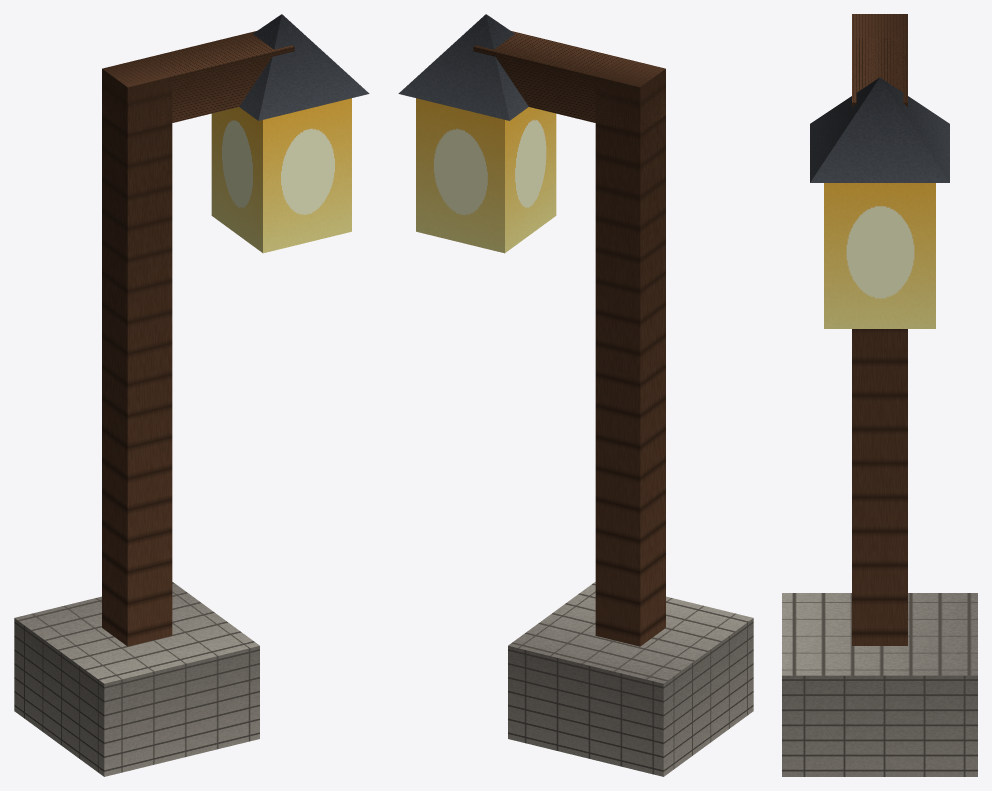
Rendered from lamp_wooden_lantern.gltf.
3 renders of one model, left to right at view 1: azimuth 30°, elevation 25°; view 2: azimuth 150°, elevation 25°; view 3: azimuth 270°, elevation 25°, orthographic. The views are drawn at different scales.
Parts seen in each view (by area): view 1: lamp_wooden_lantern; view 2: lamp_wooden_lantern; view 3: lamp_wooden_lantern.
Boxes of the visible parts, left/top/right/bottom form: lamp_wooden_lantern: left=14, top=14, right=369, bottom=776; lamp_wooden_lantern: left=398, top=14, right=753, bottom=776; lamp_wooden_lantern: left=782, top=14, right=977, bottom=776.
Size of the model in its own units: 1.25 by 2.9 by 0.7.
Materials: 1 (1 with a texture image).
